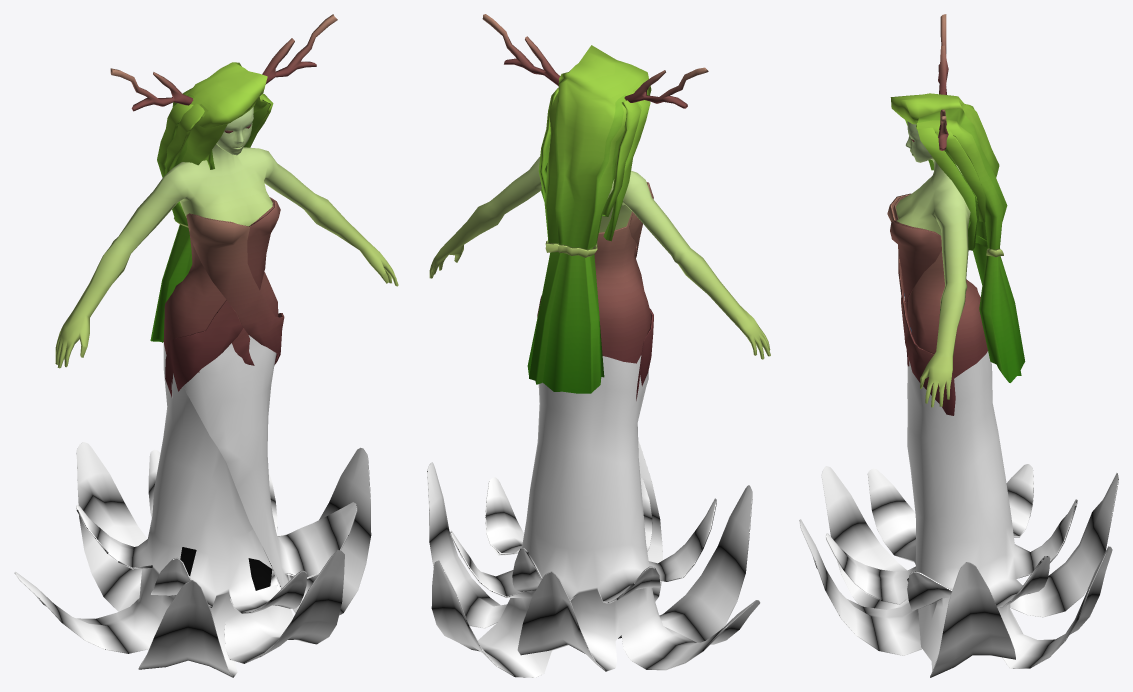
Rendered from LaXanaDressFix.fbx.
3 renders of one model, left to right at view 1: azimuth 30°, elevation 25°; view 2: azimuth 150°, elevation 25°; view 3: azimuth 270°, elevation 25°, orthographic. The views are drawn at different scales.
Parts seen in each view (by area): view 1: La_Xana_dress, La_Xana_body, La_Xana_hair; view 2: La_Xana_dress, La_Xana_hair, La_Xana_body; view 3: La_Xana_dress, La_Xana_hair, La_Xana_body.
Part boxes in pixels (x1,y1,x2,y2): La_Xana_dress: (14, 197, 371, 677); La_Xana_body: (55, 107, 398, 368); La_Xana_hair: (110, 14, 337, 342); La_Xana_dress: (427, 182, 760, 677); La_Xana_hair: (482, 14, 708, 393); La_Xana_body: (429, 156, 770, 359); La_Xana_dress: (799, 193, 1118, 677); La_Xana_hair: (890, 14, 1025, 382); La_Xana_body: (896, 121, 971, 407).
Size of the model in its own units: 6.41 by 10.45 by 5.29.
Materials: 2 (1 with a texture image).
